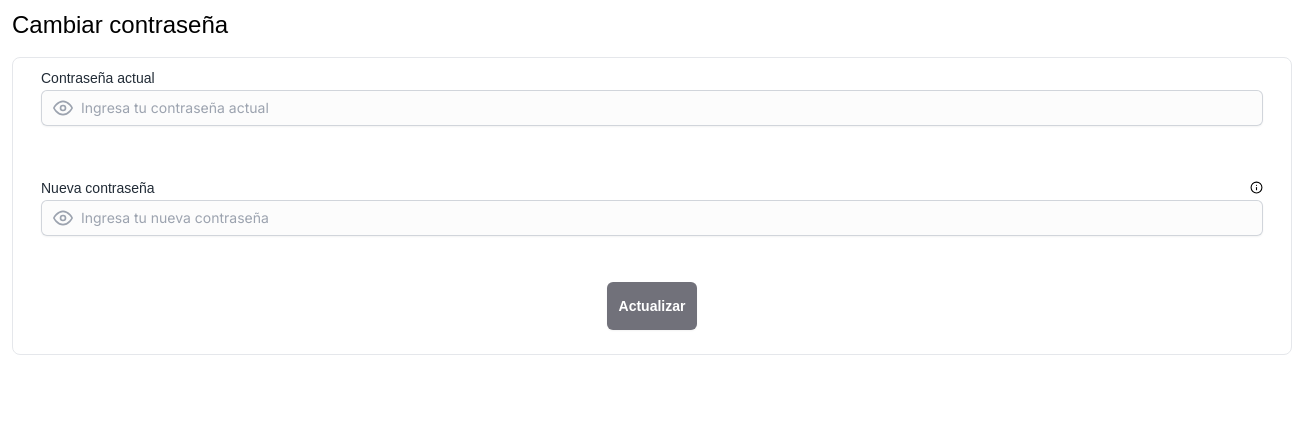
Test: <ChangePasswordSection /> › throws success alert if password change was successful
Step 1. Type "oldPassword" into the password field labelled "Contraseña actual" → [652, 108], box [41,90,1263,126]
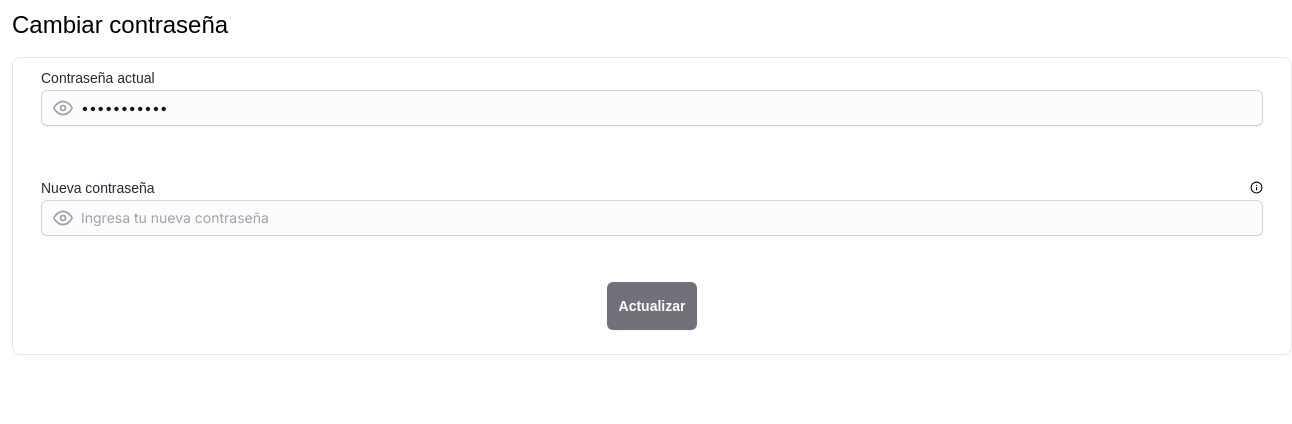
Step 2. Type "NewPassword123!" into the password field labelled "Nueva contraseña" → [652, 218], box [41,200,1263,236]
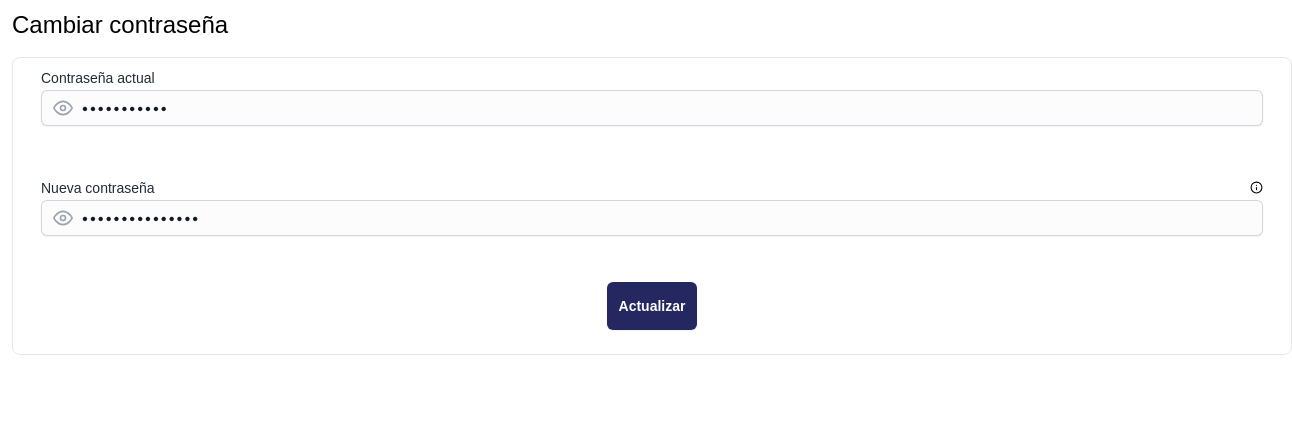
Step 3. Click the button "Actualizar" → [652, 306], box [606,282,697,330]
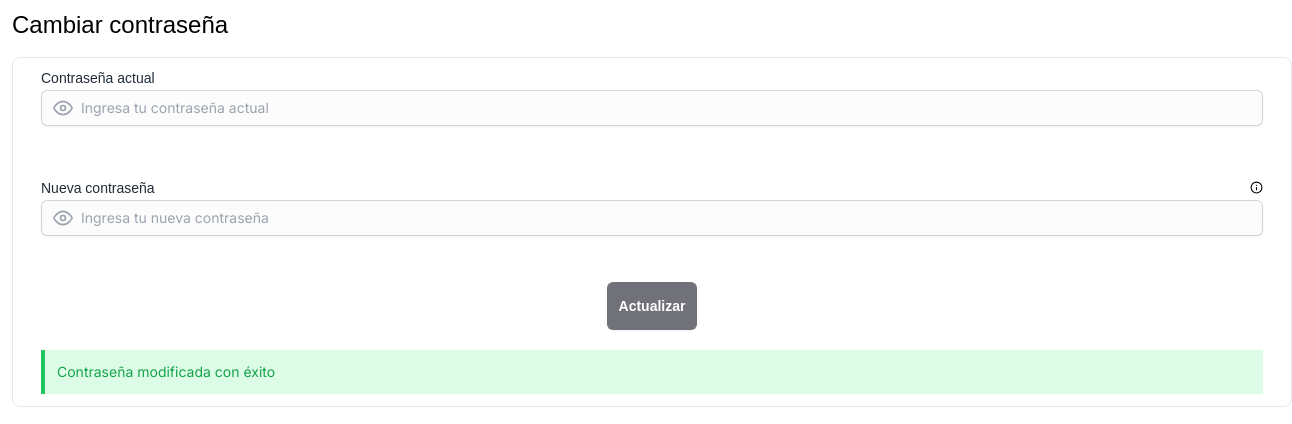
Check: the text "Contraseña modificada con éxito" is shown, box [57,363,275,380]
